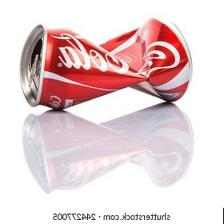can: (12, 98, 207, 195), (13, 13, 197, 110)
